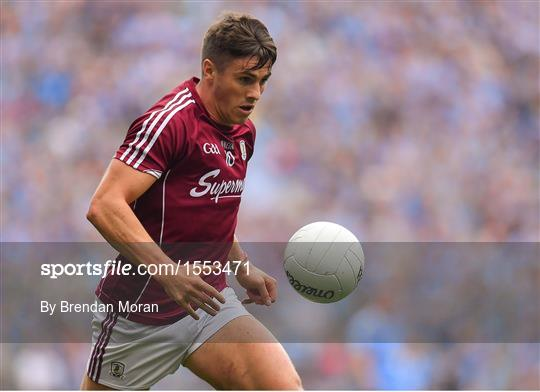ball: (278, 219, 363, 303)
player: (94, 11, 289, 383)
